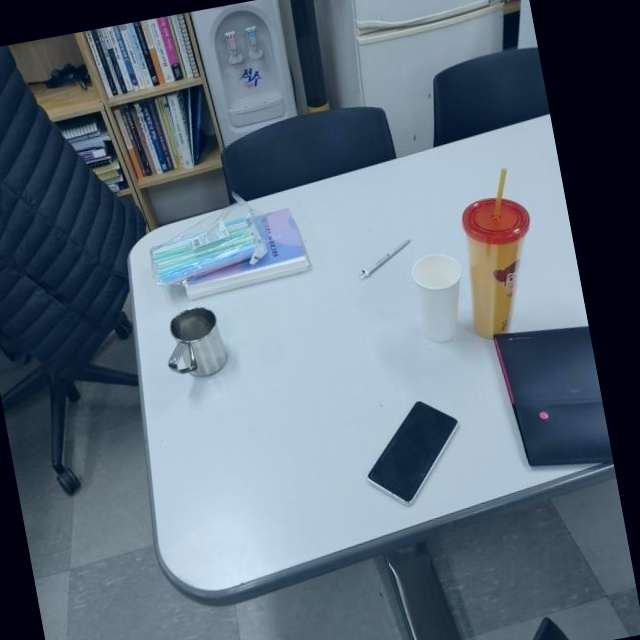cup: (156, 300, 233, 386)
phone: (354, 394, 470, 514)
